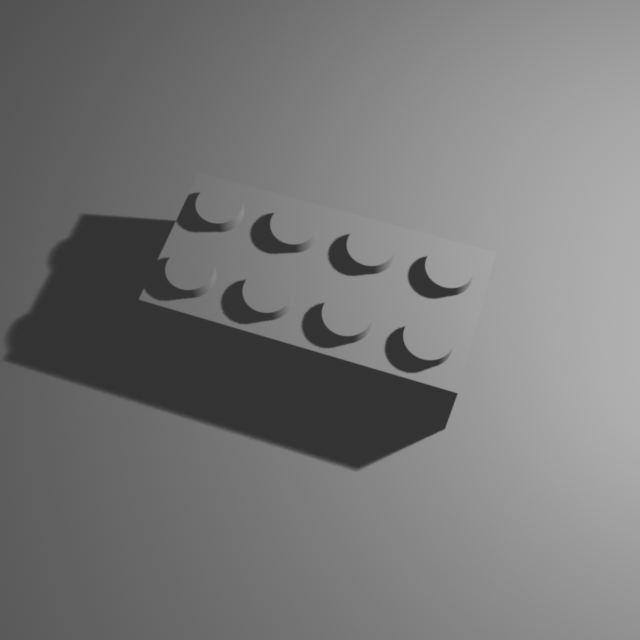lego_2x4: (136, 163, 499, 429)
